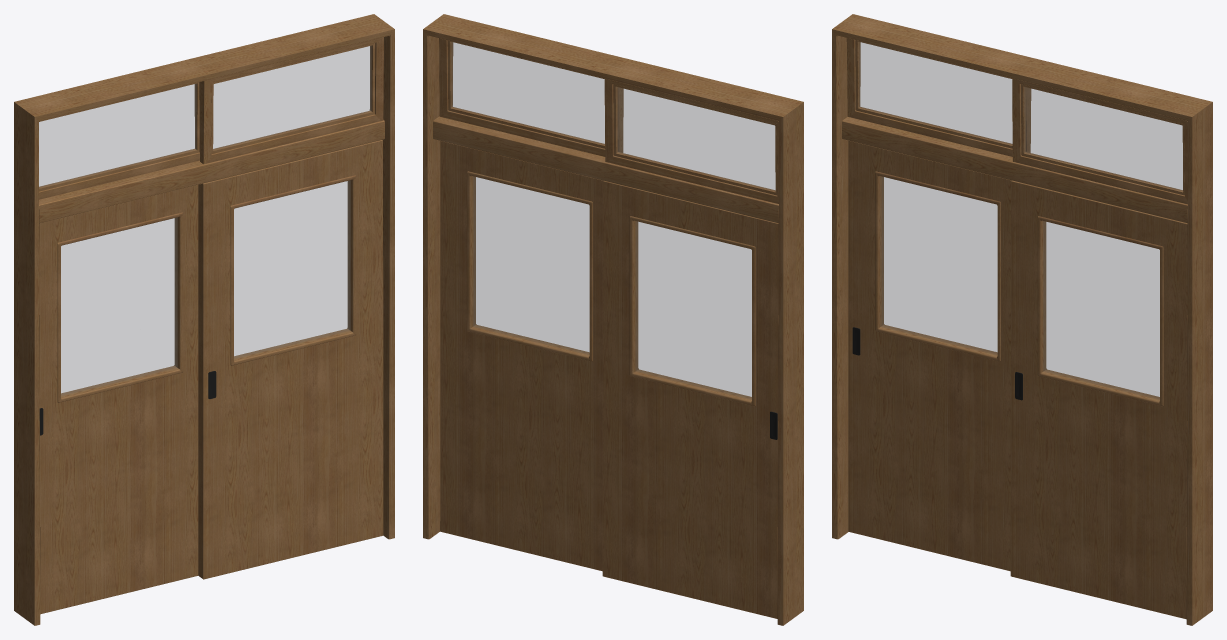
Rendered from M_Partition01.FBX.
The picture shows the model from 3 angles, left to right: view 1: azimuth 30°, elevation 25°; view 2: azimuth 150°, elevation 25°; view 3: azimuth 330°, elevation 25°; orthographic projection.
Parts seen in each view (by area): view 1: Partition_01; view 2: Partition_01; view 3: Partition_01.
Part boxes in pixels (x1=…): Partition_01: x1=14, y1=14, x2=394, y2=625; Partition_01: x1=423, y1=14, x2=803, y2=625; Partition_01: x1=832, y1=14, x2=1212, y2=625.
Bounding box in the file's own units: 200 × 270 × 20.
